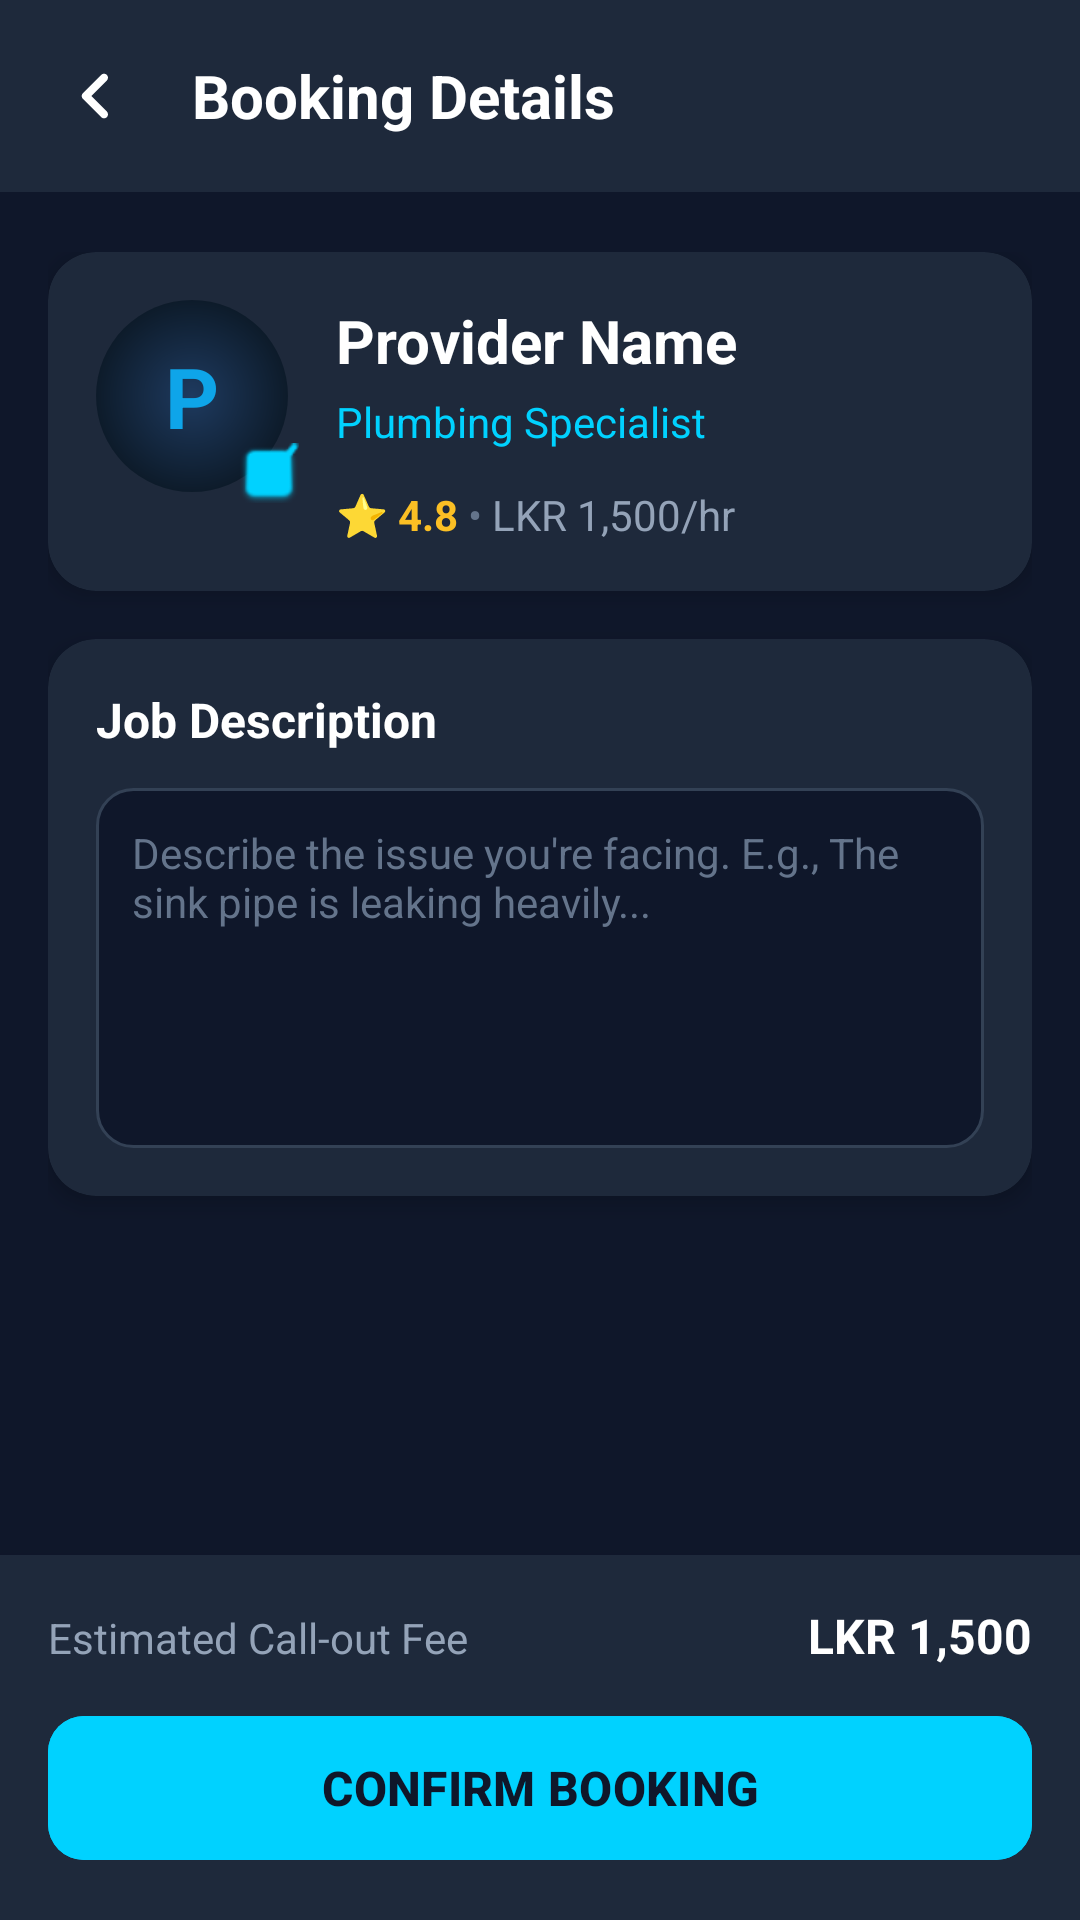

Icons on this 1080px×1920px Android screen, each with its box as (x1, y1, x2, y2):
chevron left: (81, 73, 108, 119)
